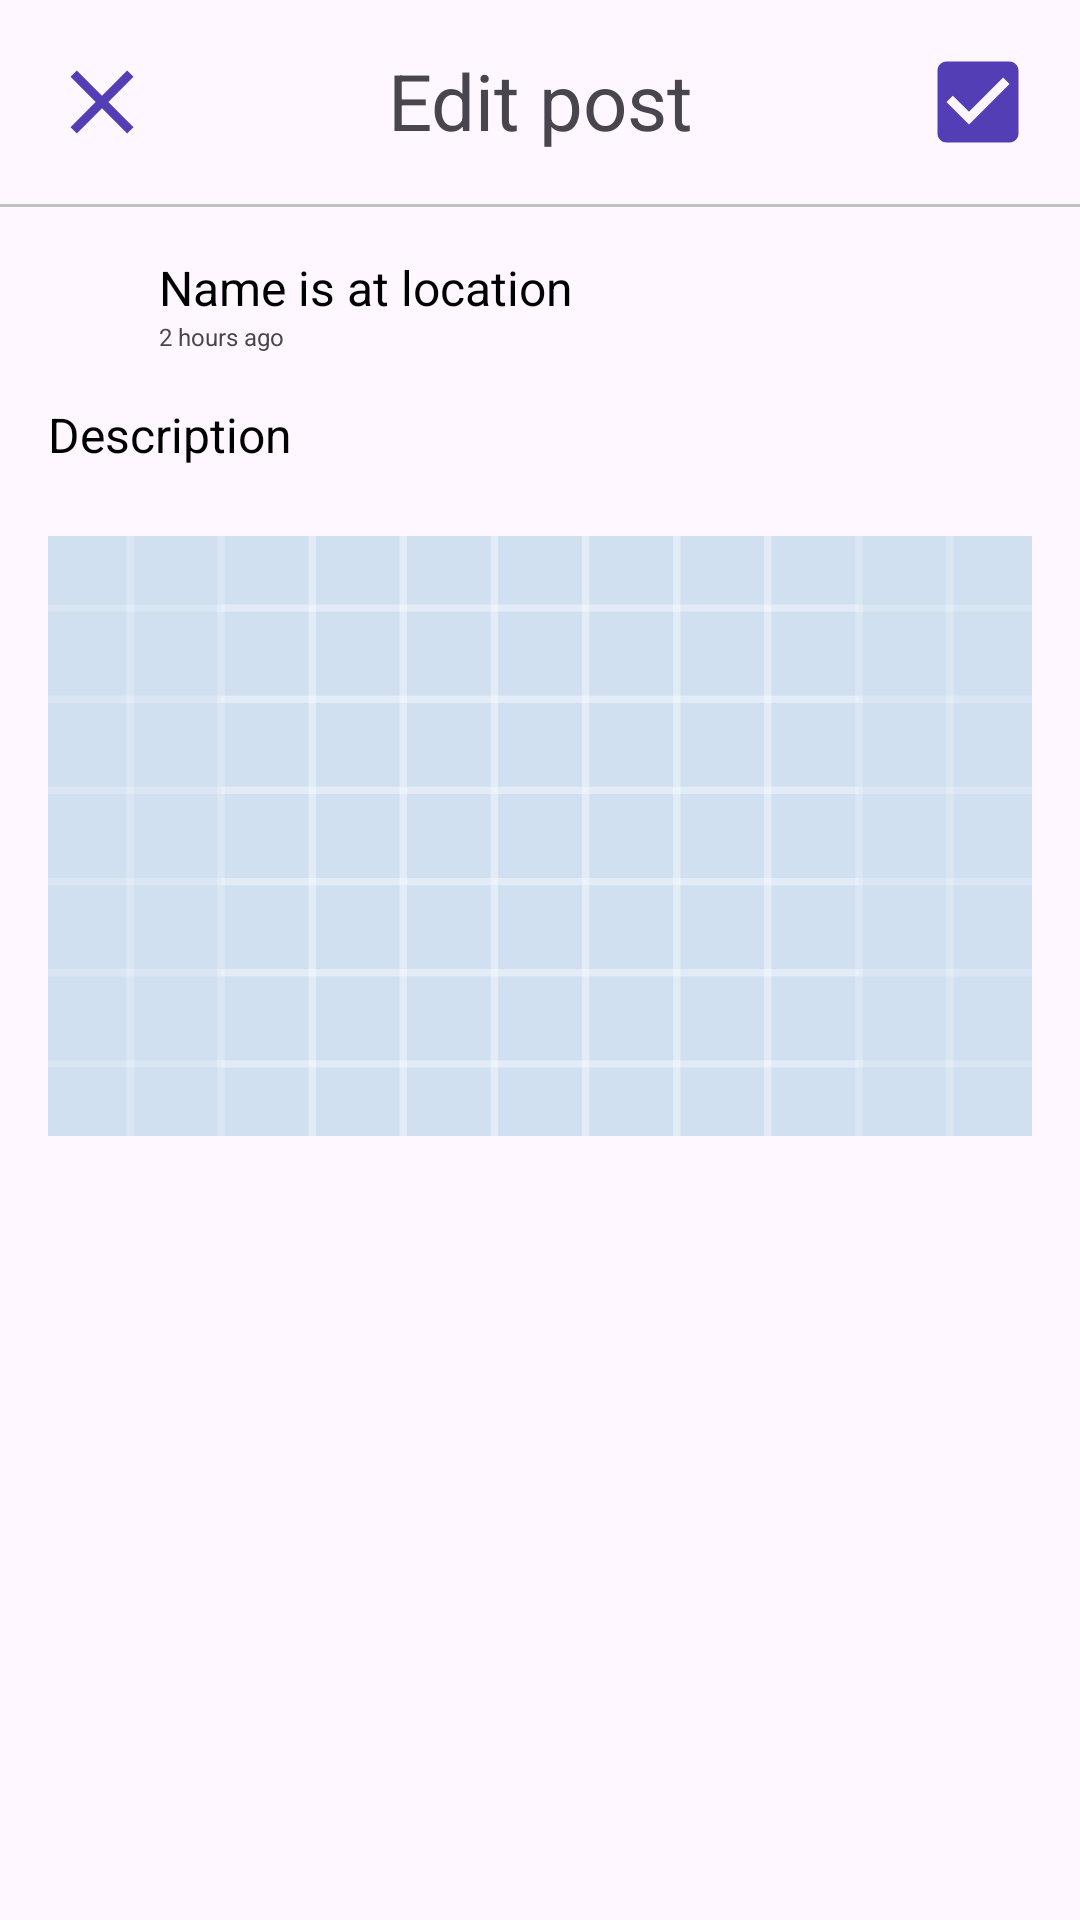

Screen size 1080x1920. Icon name, then its box in pixels as (x1, y1, x2, y2):
check: (937, 61, 1019, 143)
close: (70, 70, 134, 134)
